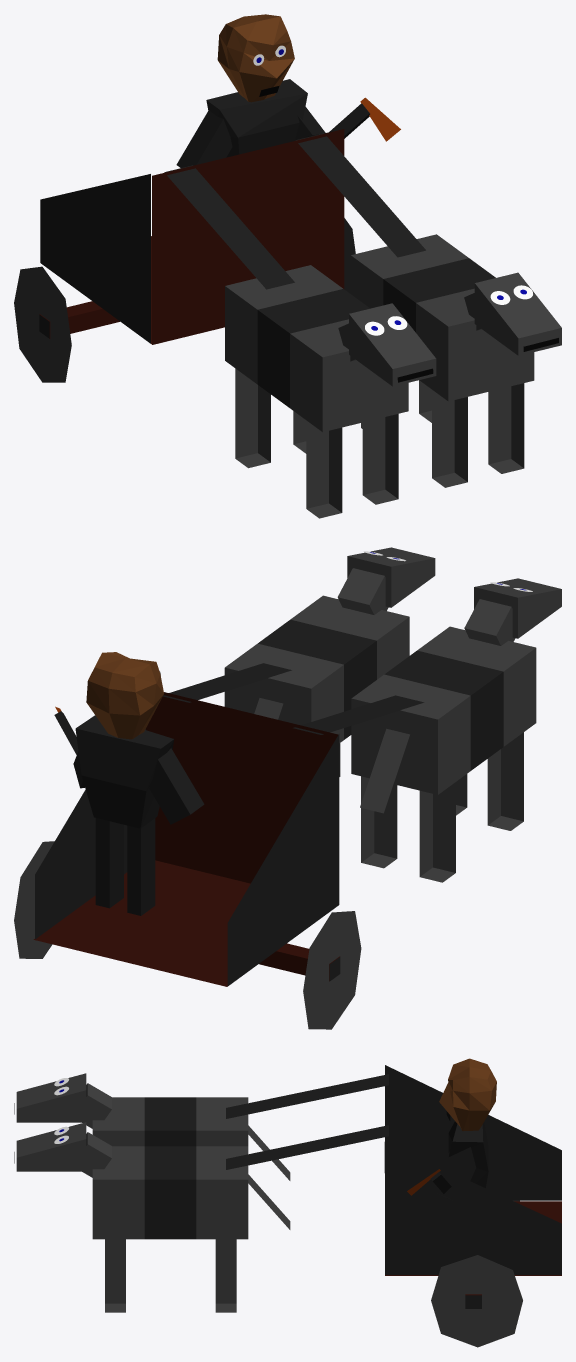
File: lightchariot1f.obj
3 views of the same model, one above another, from view 1: azimuth 30°, elevation 25°; view 2: azimuth 150°, elevation 25°; view 3: azimuth 270°, elevation 25° (orthographic). The views are drawn at different scales.
Parts seen in each view (by area): view 1: Plane.005_Plane.006, Cube.015_Cube.017, Cube.006_Cube.009, Plane.003, Plane.007_Plane.008, Cube, Cube.001, Cube.014_Cube.016, Cube.021_Cube.023, Plane.012_Plane.013, Plane.013_Plane.014, Cube.019_Cube.021 (+7 smaller); view 2: Plane.005_Plane.006, Cube.015_Cube.017, Cube.006_Cube.009, Plane.002, Plane.003, Cube.001, Plane.004, Cube, Plane.007_Plane.008, Cube.016_Cube.018, Cube.019_Cube.021, Cube.014_Cube.016 (+12 smaller); view 3: Plane.004, Cube.006_Cube.009, Plane.003, Cube.015_Cube.017, Plane.006_Plane.007, Cube, Cube.014_Cube.016, Cube.021_Cube.023, Plane.012_Plane.013, Plane.013_Plane.014, Cube.010_Cube.012, Cube.011_Cube.013 (+6 smaller).
Part boxes in pixels (box(x1,y1,x2,y2)): Plane.005_Plane.006: box(152, 129, 344, 344); Cube.015_Cube.017: box(225, 265, 408, 432); Cube.006_Cube.009: box(350, 234, 534, 401); Plane.003: box(40, 174, 150, 343); Plane.007_Plane.008: box(14, 266, 71, 382); Cube: box(217, 14, 294, 102); Cube.001: box(206, 79, 307, 157); Cube.014_Cube.016: box(474, 272, 561, 355); Cube.021_Cube.023: box(349, 303, 436, 386); Plane.012_Plane.013: box(164, 165, 294, 289); Plane.013_Plane.014: box(295, 133, 425, 257); Cube.019_Cube.021: box(306, 420, 342, 518); Plane.005_Plane.006: box(146, 692, 338, 883); Cube.015_Cube.017: box(351, 626, 536, 794); Cube.006_Cube.009: box(224, 595, 409, 743); Plane.002: box(33, 860, 250, 986); Plane.003: box(227, 734, 339, 986); Cube.001: box(75, 715, 174, 828); Plane.004: box(35, 729, 145, 939); Cube: box(86, 652, 163, 739); Plane.007_Plane.008: box(303, 911, 361, 1029); Cube.016_Cube.018: box(419, 782, 455, 882); Cube.019_Cube.021: box(487, 732, 523, 830); Cube.014_Cube.016: box(347, 547, 435, 607); Plane.004: box(384, 1142, 561, 1274); Cube.006_Cube.009: box(92, 1146, 248, 1239); Plane.003: box(385, 1065, 561, 1200); Cube.015_Cube.017: box(92, 1097, 248, 1146); Plane.006_Plane.007: box(431, 1255, 522, 1347); Cube: box(439, 1058, 496, 1131); Cube.014_Cube.016: box(16, 1122, 86, 1171); Cube.021_Cube.023: box(16, 1073, 86, 1122); Plane.012_Plane.013: box(226, 1074, 388, 1118); Plane.013_Plane.014: box(226, 1125, 388, 1169); Cube.010_Cube.012: box(215, 1239, 236, 1312); Cube.011_Cube.013: box(105, 1239, 125, 1312).
Size of the model in its own units: 7.88 by 7.5 by 14.9.
